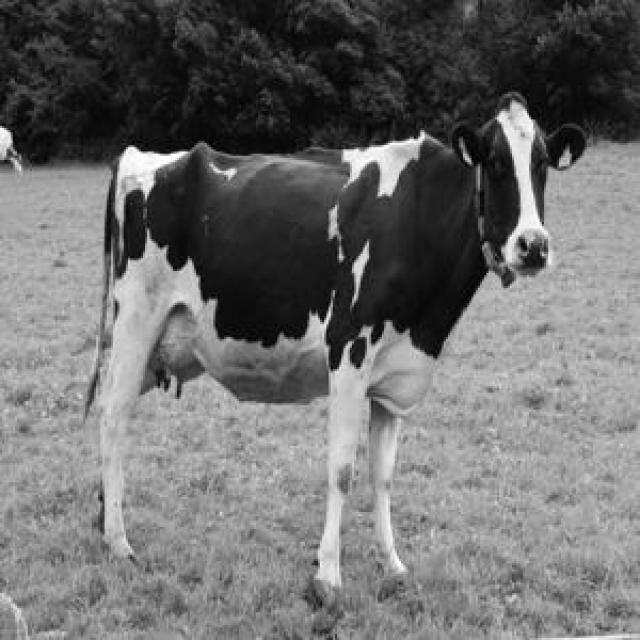cow: (95, 94, 585, 596)
